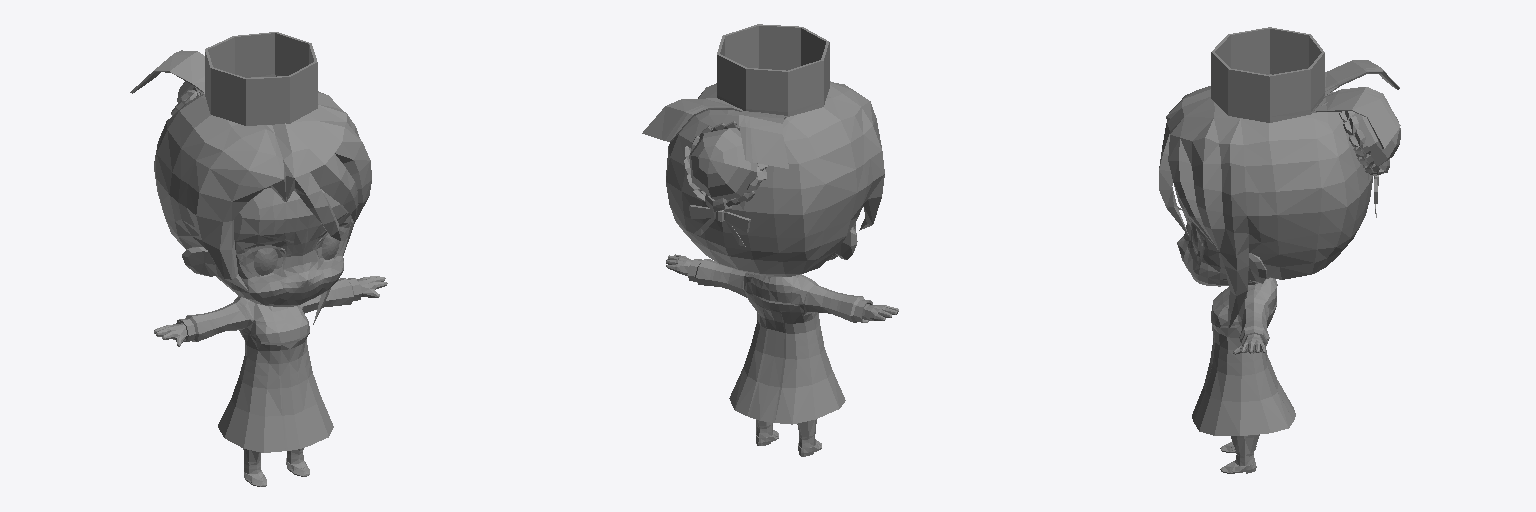
Rendered from haruko_obj.obj.
3 renders of one model, left to right at view 1: azimuth 30°, elevation 25°; view 2: azimuth 150°, elevation 25°; view 3: azimuth 270°, elevation 25°, orthographic.
Visible parts, largest first — view 1: Haruko_body; view 2: Haruko_body; view 3: Haruko_body.
Part boxes in pixels (left/top/right/bottom): Haruko_body: left=130, top=32, right=387, bottom=486; Haruko_body: left=642, top=24, right=898, bottom=456; Haruko_body: left=1159, top=27, right=1400, bottom=473.
Size of the model in its own units: 28.93 by 49.09 by 26.41.